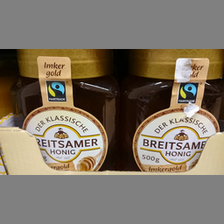honey: (9, 49, 119, 171), (123, 49, 224, 173)
